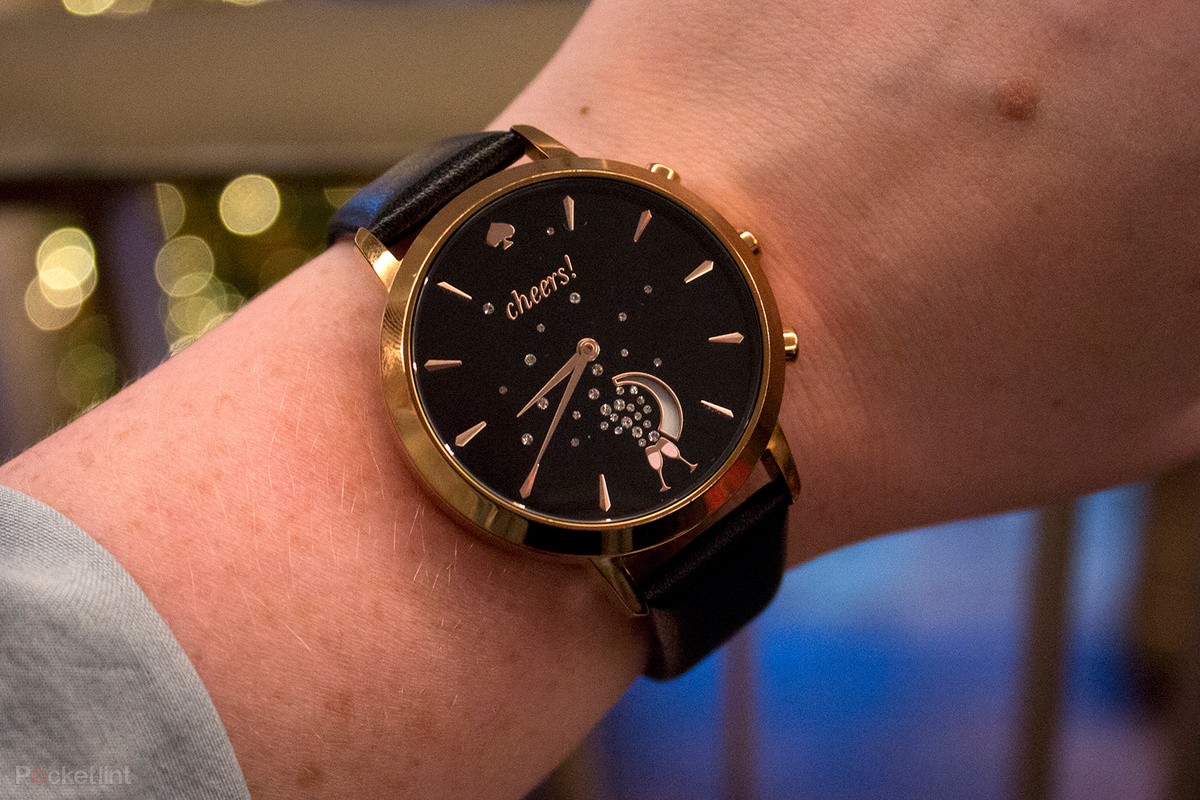clock: (409, 171, 770, 530)
